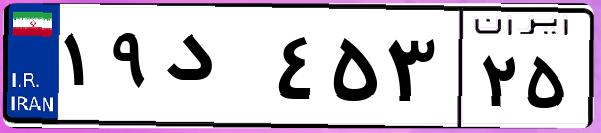1: (57, 26, 110, 100)
2: (475, 38, 525, 113)
3: (385, 28, 445, 110)
4: (270, 28, 330, 110)
5: (330, 28, 385, 110), (525, 38, 570, 115)
9: (110, 28, 158, 98)
د: (158, 20, 270, 120)
